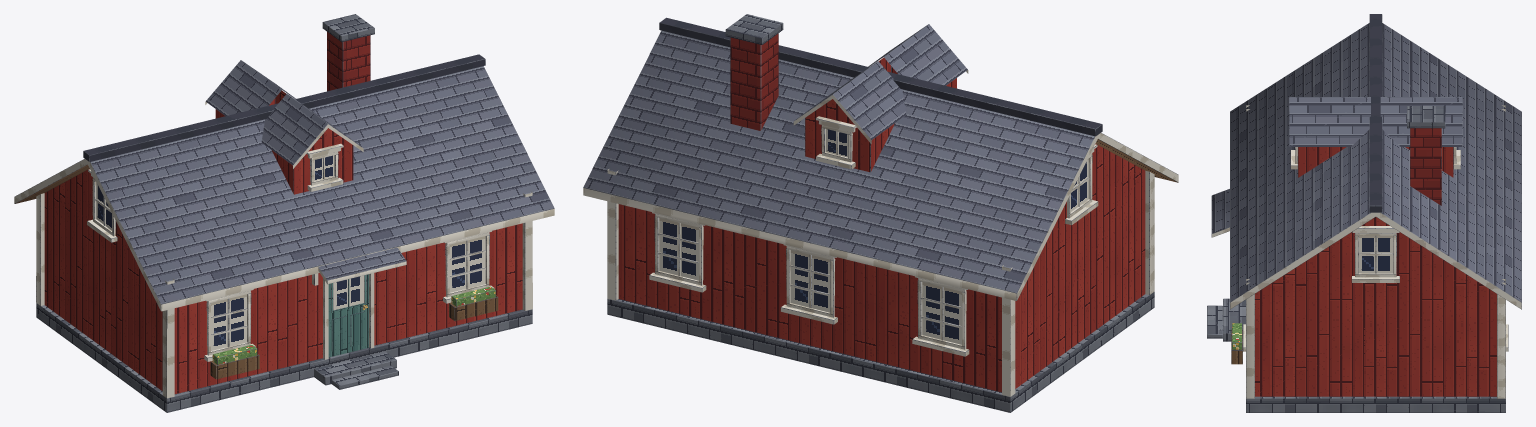
Rendered from town_house_9.glb.
3 renders of one model, left to right at view 1: azimuth 30°, elevation 25°; view 2: azimuth 150°, elevation 25°; view 3: azimuth 270°, elevation 25°, orthographic. The views are drawn at different scales.
Visible parts, largest first — view 1: town_house_10; view 2: town_house_10; view 3: town_house_10.
Part boxes in pixels (left/top/right/bottom): town_house_10: left=14, top=14, right=554, bottom=412; town_house_10: left=583, top=14, right=1178, bottom=412; town_house_10: left=1207, top=14, right=1521, bottom=412.
Size of the model in its own units: 9.96 by 6.13 by 6.9.
12 materials, 12 textured.
